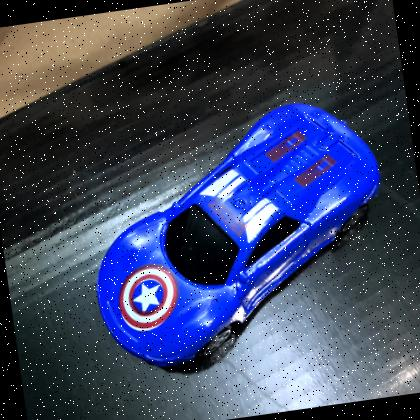Car: (96, 103, 382, 370)
